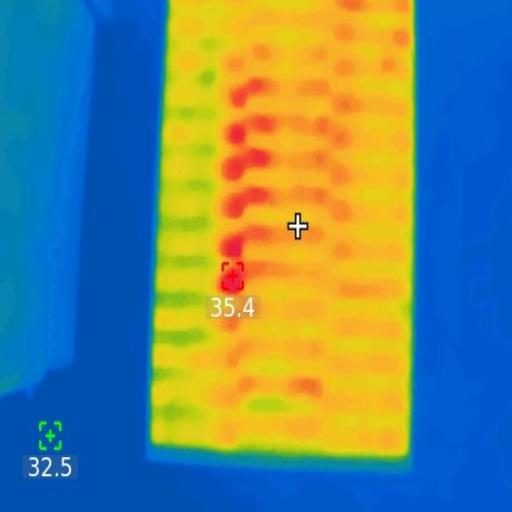hotspot: (226, 187, 279, 218), (222, 148, 274, 178), (224, 119, 283, 144), (217, 263, 250, 297), (230, 82, 274, 107), (221, 230, 253, 262)
